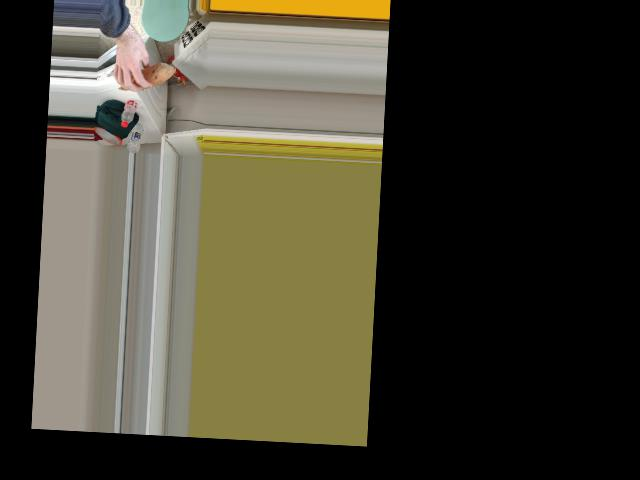sweet_potato: (116, 65, 170, 92)
